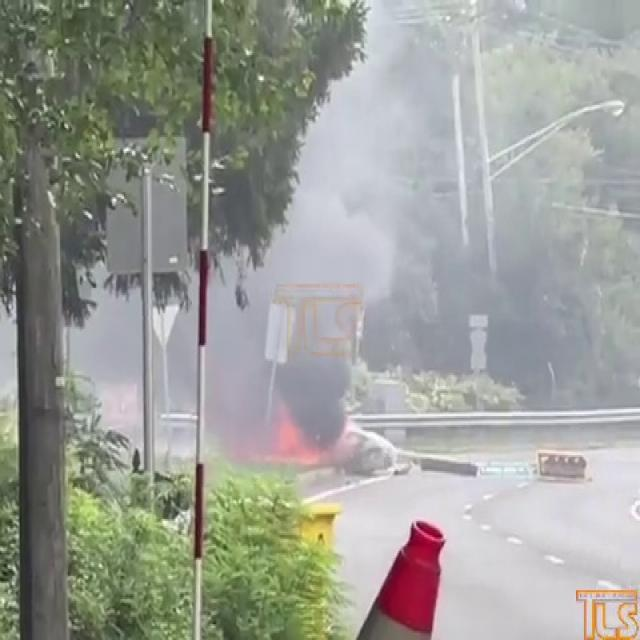Fire: (272, 388, 329, 466)
Smoke: (199, 0, 428, 453)
